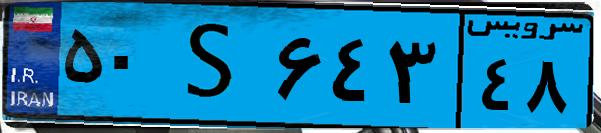0: (110, 28, 158, 98)
3: (385, 28, 445, 110)
4: (330, 28, 385, 110), (475, 38, 525, 113)
5: (57, 26, 110, 100)
6: (270, 28, 330, 110)
8: (525, 38, 570, 115)
S: (158, 12, 270, 120)
